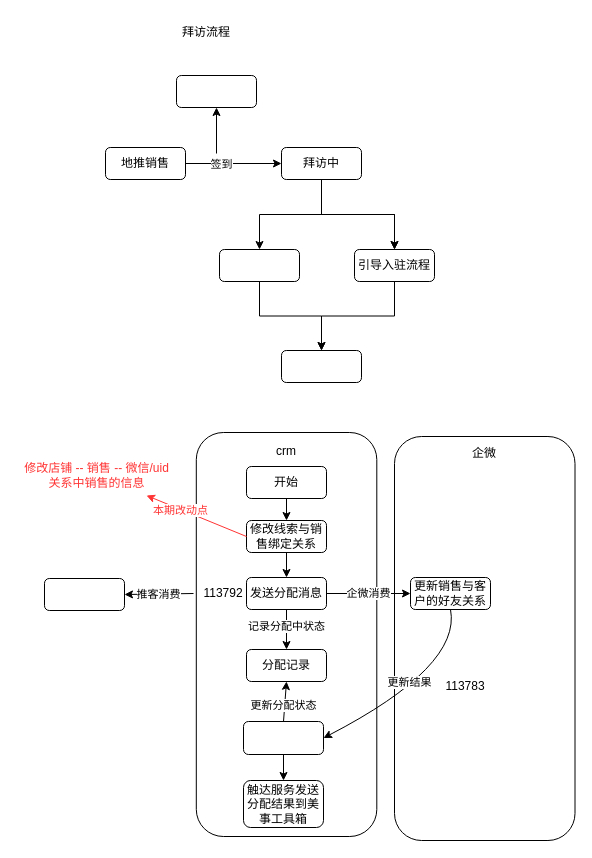
This 592x858 diagram has some shape labels left out. Each missing label, with the box of its shape:
处理分配结果: (242, 720, 324, 754)
拜访预警: (176, 74, 256, 108)
更新销售与线索的绑定关系: (44, 578, 124, 610)
签退: (280, 350, 362, 382)
编辑店铺信息: (218, 248, 300, 282)
